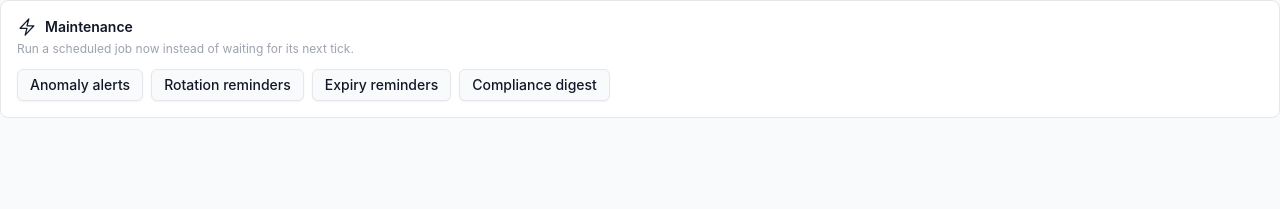
Test: MaintenanceSection › runs the rotation-reminders job and surfaces the sent count on success
The width and height of the screenshot is (1280, 209).
Step 1. Click the button "Rotation reminders" → click(227, 85), box [151,69,304,101]
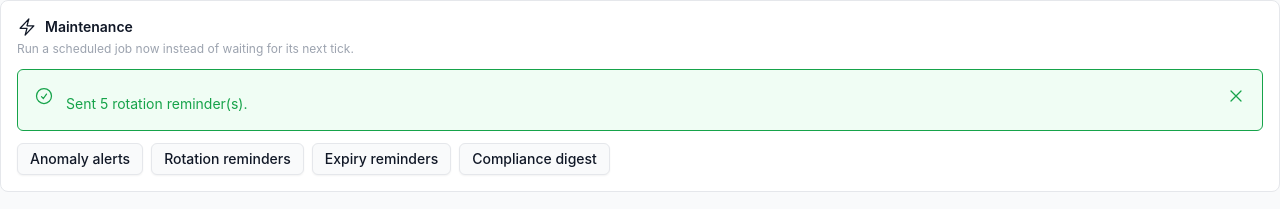
Expected: the text "Sent 5 rotation reminder(s)." is shown, [66,95,248,112]
